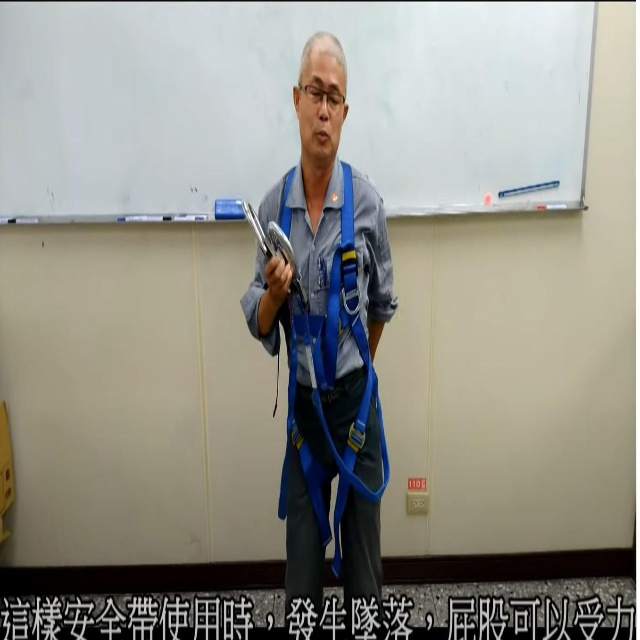Arnes_seguridad: (274, 161, 391, 573)
